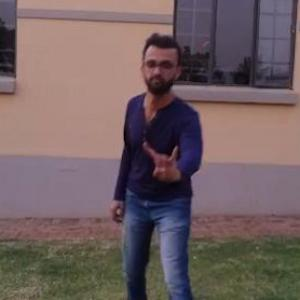takeoff-hand: (138, 135, 187, 189)
